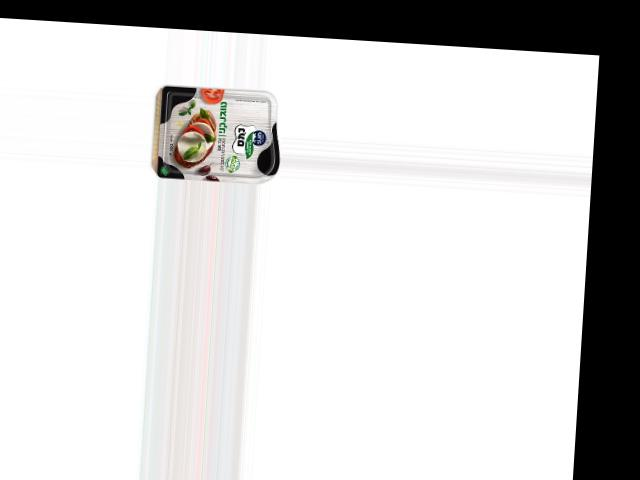cheese: (155, 83, 282, 185)
